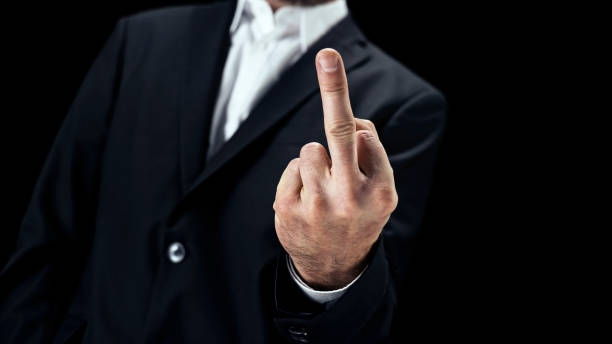insulting_gesture: (269, 43, 399, 282)
